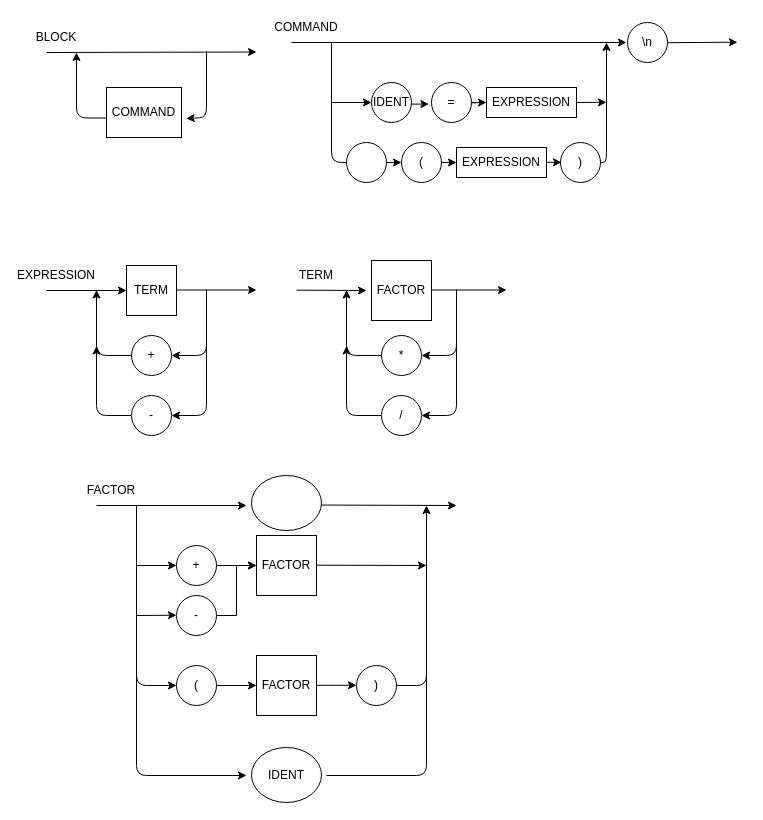
Some shapes in this 763 by 820 pixel diagram are drawn without their labels. The shapes that lost their labels are listed below. From the top down, each one's centre as x and y in pixels, then its label:
[366,162]: PRINT
[286,502]: Number
